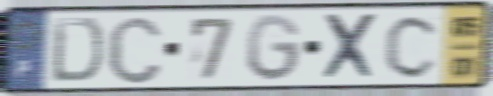7: (187, 15, 234, 82)
C: (104, 12, 165, 86), (382, 12, 443, 80)
D: (48, 15, 106, 86)
G: (244, 11, 304, 85)
X: (320, 11, 380, 83)
